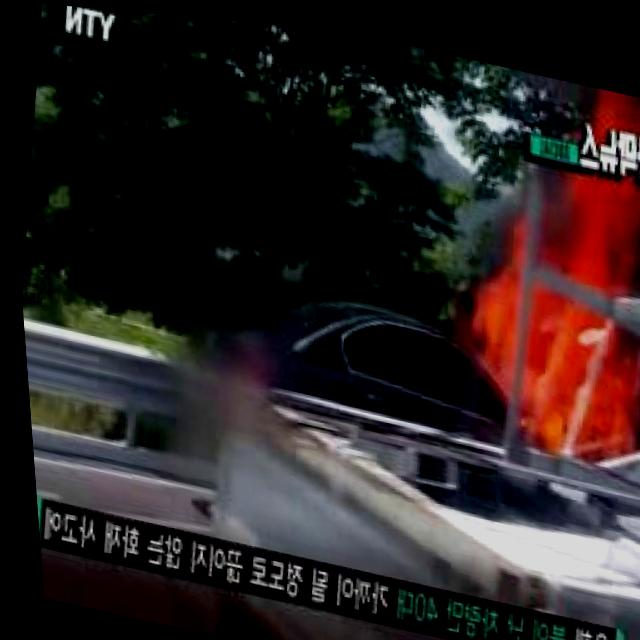helmet: (445, 134, 640, 476)
